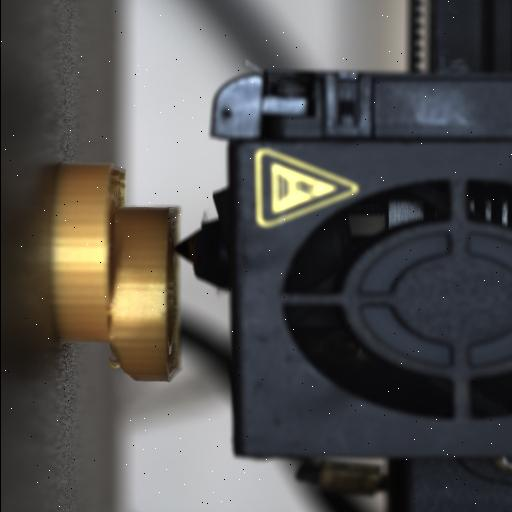layer_shift: (101, 162, 135, 380)
